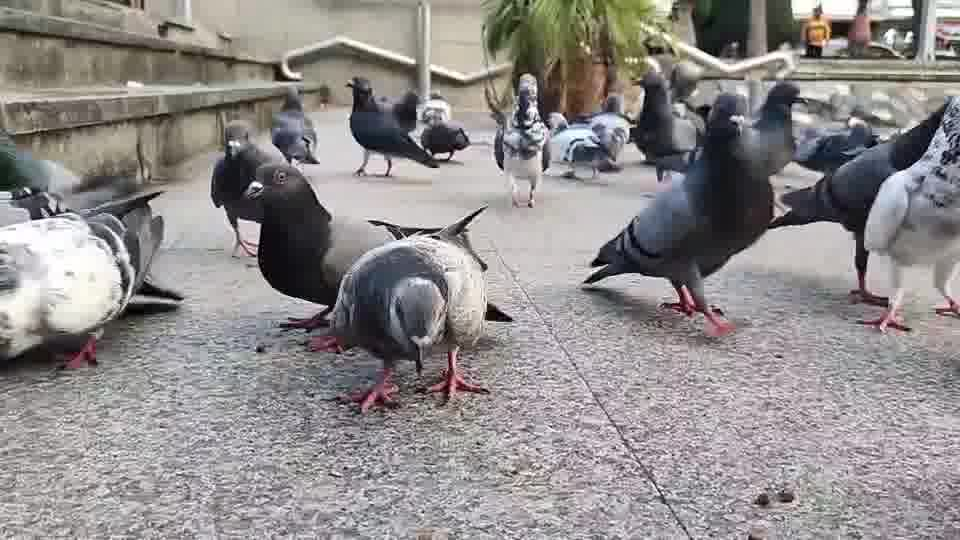Pigeon: (579, 80, 808, 337), (280, 202, 513, 414), (768, 94, 951, 308), (0, 186, 169, 369), (241, 162, 408, 346), (856, 93, 959, 334), (209, 119, 290, 258), (343, 75, 440, 177), (628, 67, 704, 181), (490, 72, 551, 208), (270, 85, 320, 169), (418, 91, 471, 162)
